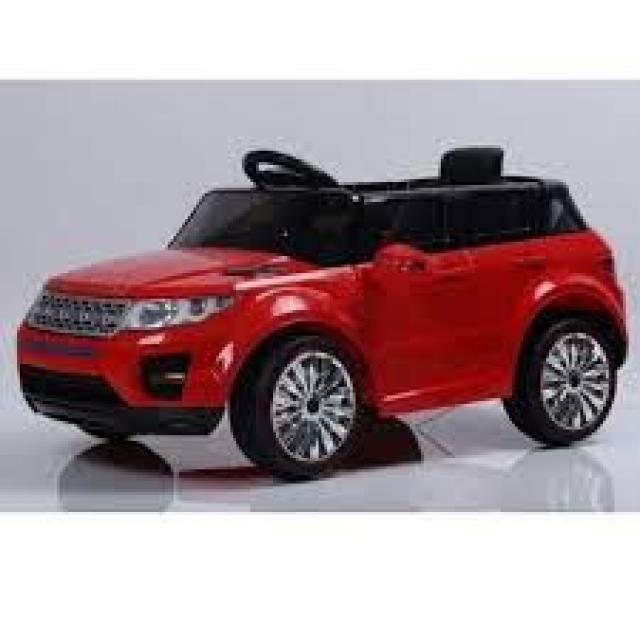Car: (14, 142, 629, 481)
